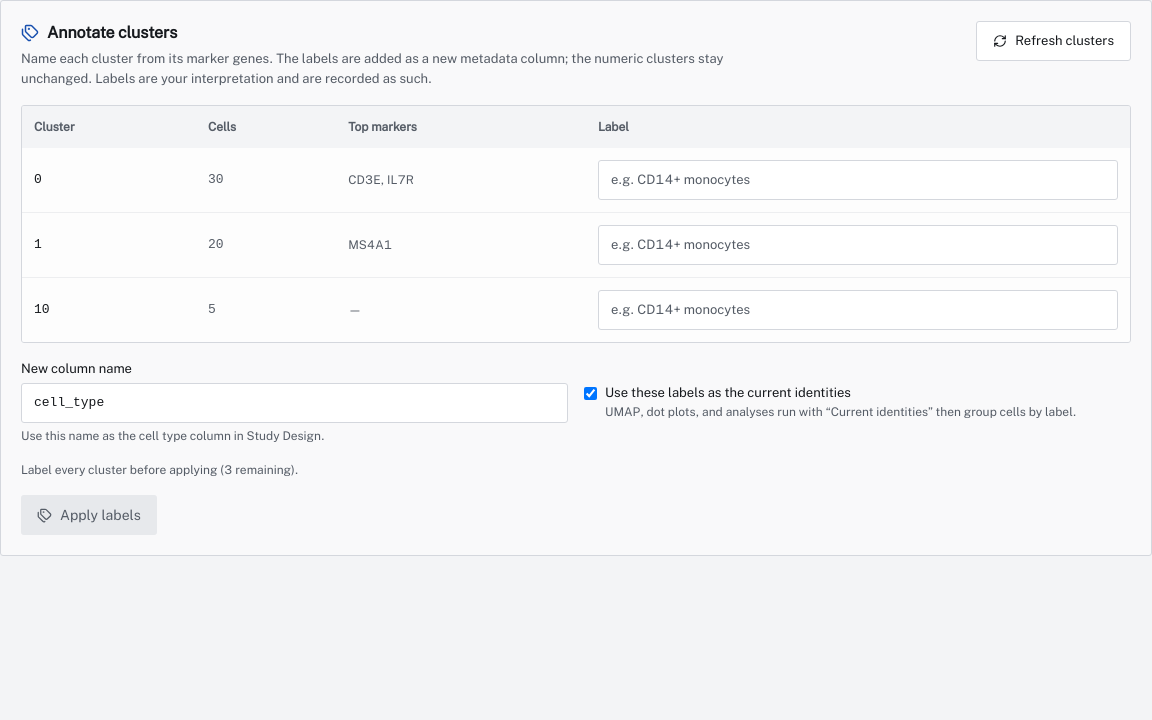
Test case: ClusterAnnotationPanel › shows R validation errors without claiming success
Type "X" into the field named "Label for cluster 0" at point(858, 180), box left=598, top=160, right=1118, bottom=200
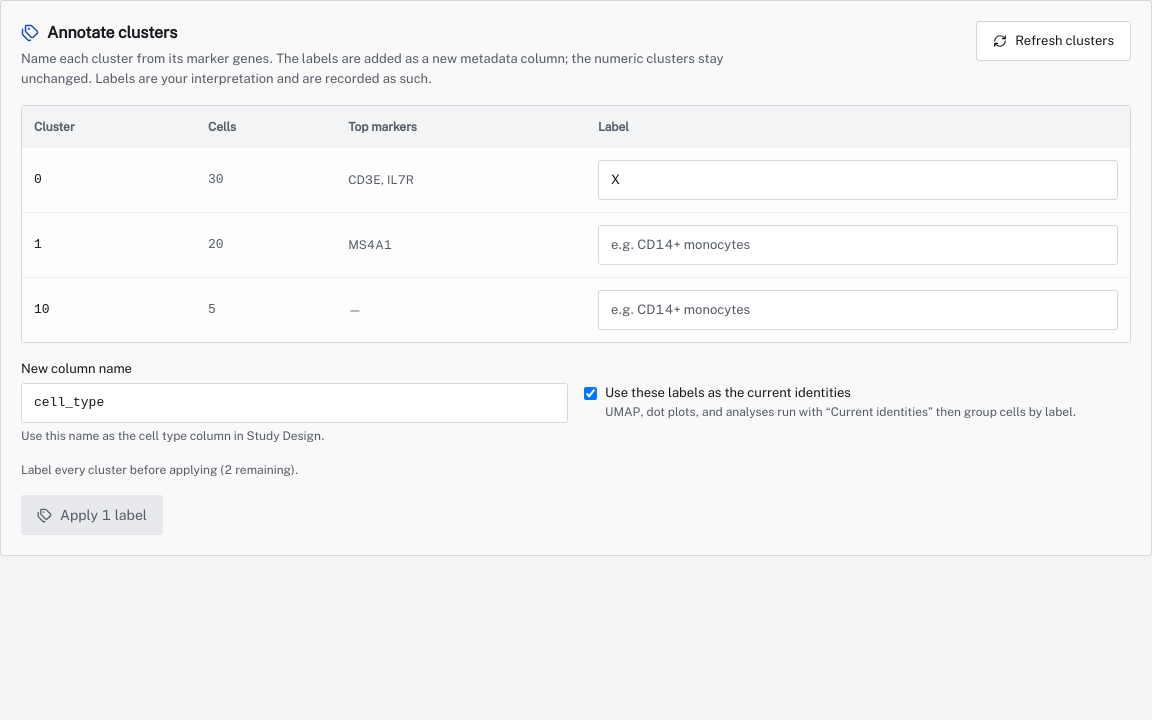
Type "X" into the field named "Label for cluster 1" at point(858, 245), box left=598, top=225, right=1118, bottom=265
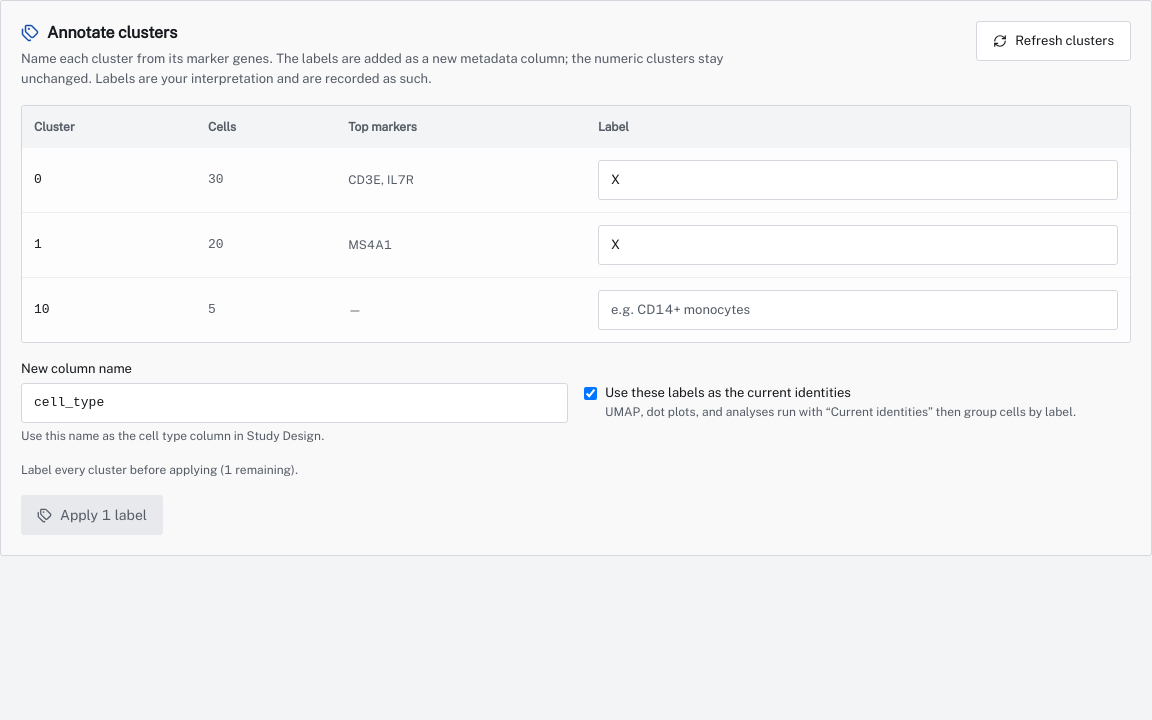
Type "X" into the field named "Label for cluster 10" at point(858, 310), box left=598, top=290, right=1118, bottom=330
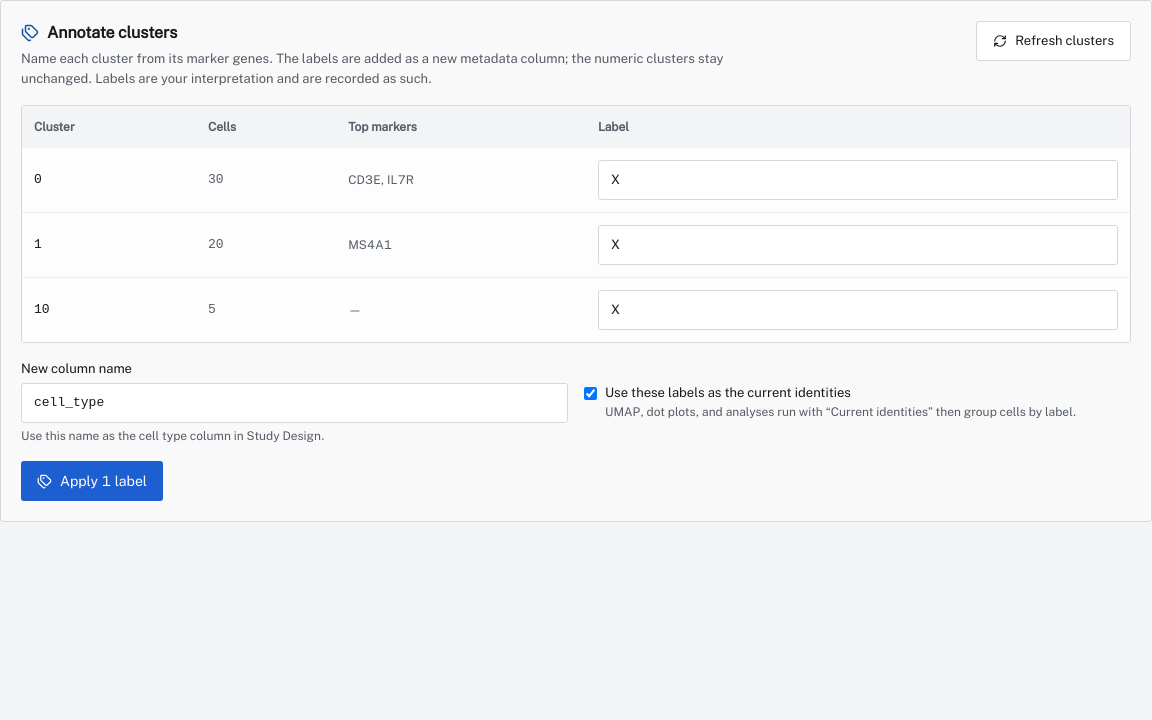
Click the button "Apply 1 label" at point(92, 481), box left=21, top=461, right=163, bottom=501
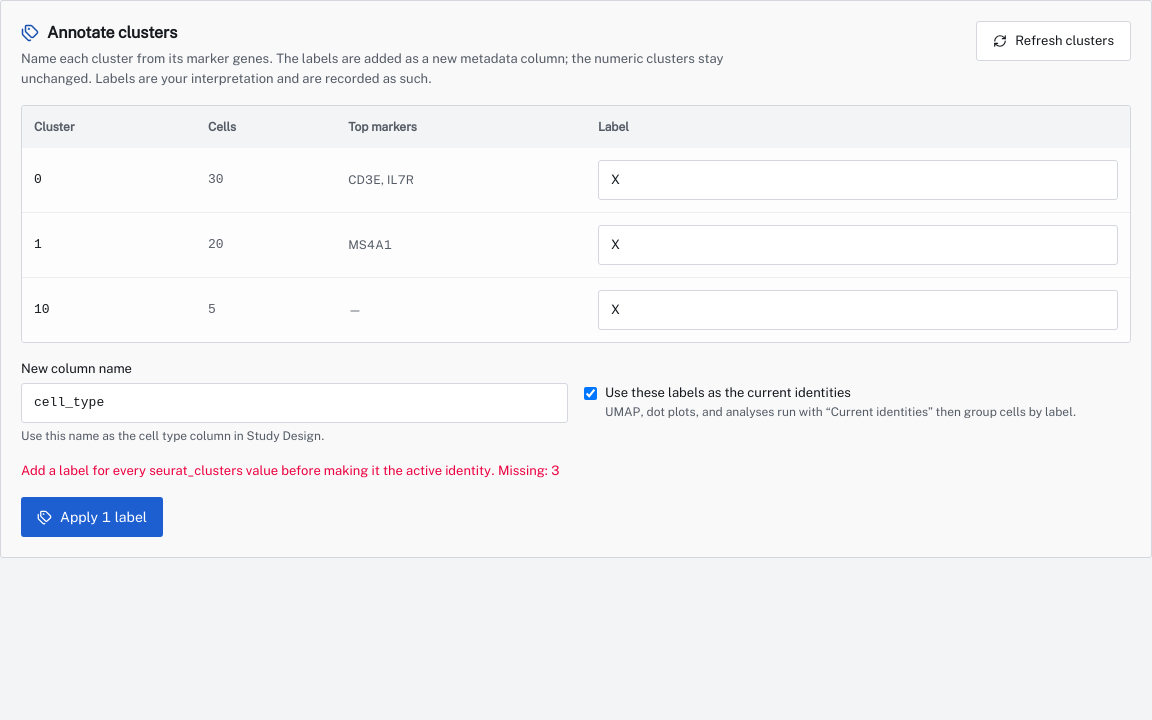
expect the message shows "Add a label for every": met, box left=21, top=463, right=560, bottom=478
